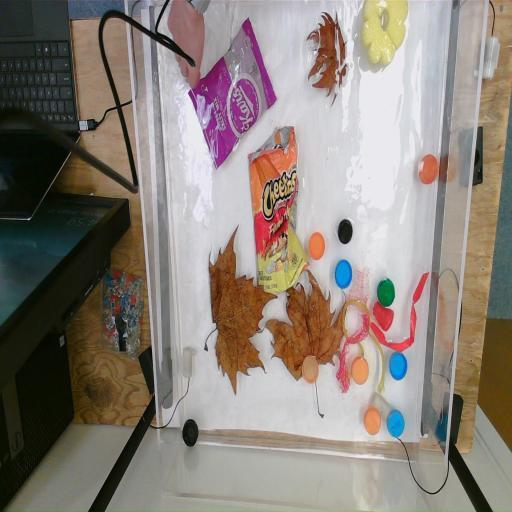Bottle Cap: (388, 351, 408, 381), (418, 154, 438, 184), (377, 278, 396, 307), (335, 258, 352, 290), (364, 406, 382, 436), (302, 354, 319, 384), (308, 232, 326, 260), (352, 356, 370, 384), (386, 410, 404, 438), (182, 419, 199, 447), (338, 220, 354, 244)
Cone Cap: (372, 300, 394, 334)
Leaf: (203, 224, 279, 390), (266, 268, 344, 415), (306, 10, 348, 99)
Netting: (336, 316, 371, 392), (346, 266, 370, 318)
Plastic Bag: (192, 19, 277, 173), (248, 126, 306, 294)
Plastic Strand: (370, 271, 430, 353), (342, 299, 386, 392)
Sponge: (363, 0, 409, 66)
